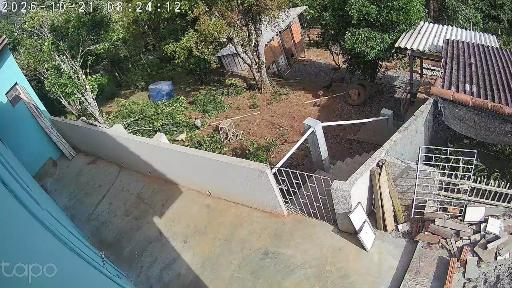frango: (317, 91, 325, 96)
galinha: (175, 128, 188, 144), (323, 79, 334, 92), (193, 117, 202, 129)
